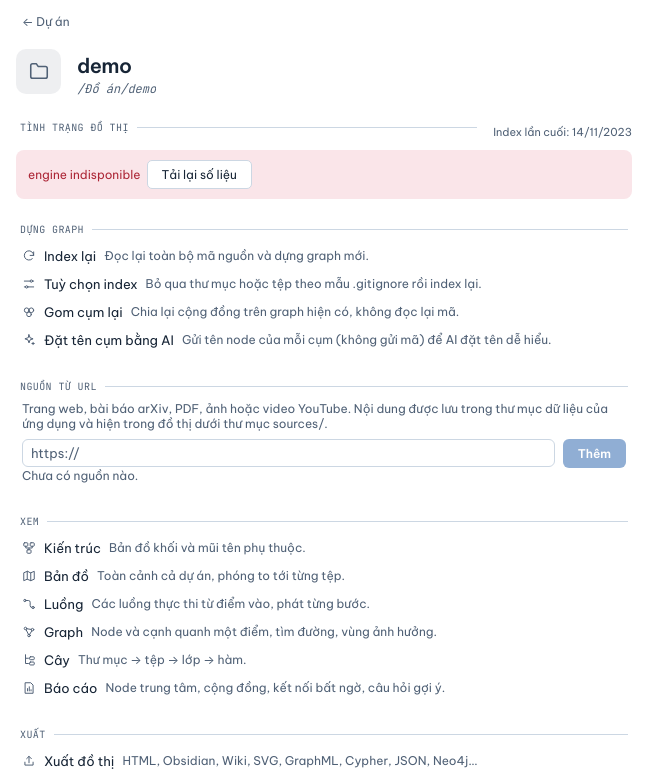
Test case: ProjectOverviewScreen › shows a failed stats request and lets the user reload it
The image size is (649, 777).
Expected: the message shows "engine indisponible", [28,167,140,182]
Click the button "Tải lại số liệu" at coordinates (199, 174), box [146,160,252,189]
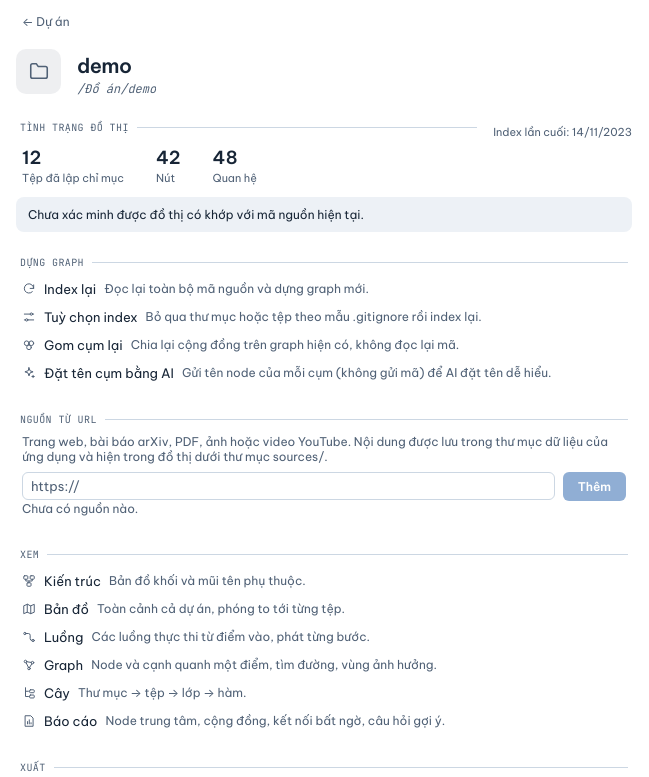
Result: the text "Chưa xác minh được đồ thị có khớp với mã nguồn hiện tại." is shown at [16,197,632,232]
